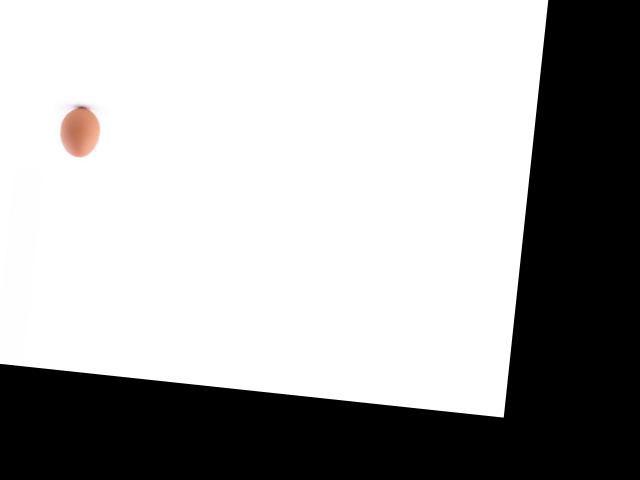egg: (56, 105, 101, 159)
